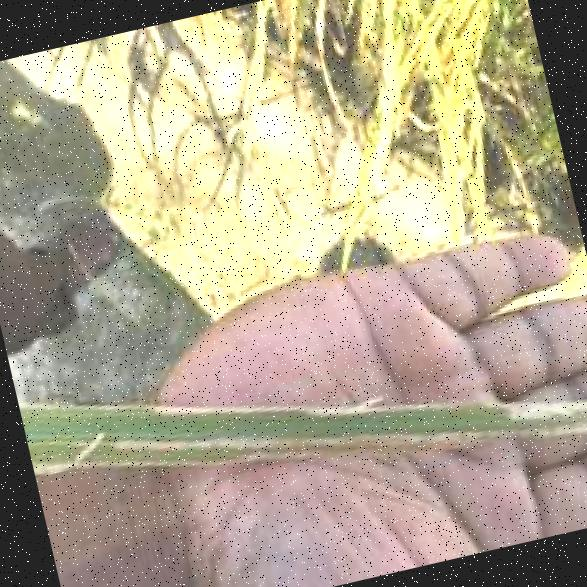Bacteria_Leaf_Blight: (29, 270, 587, 568)
